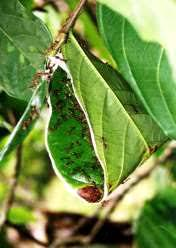Leaf Roller - Leaf: (50, 31, 168, 204)
